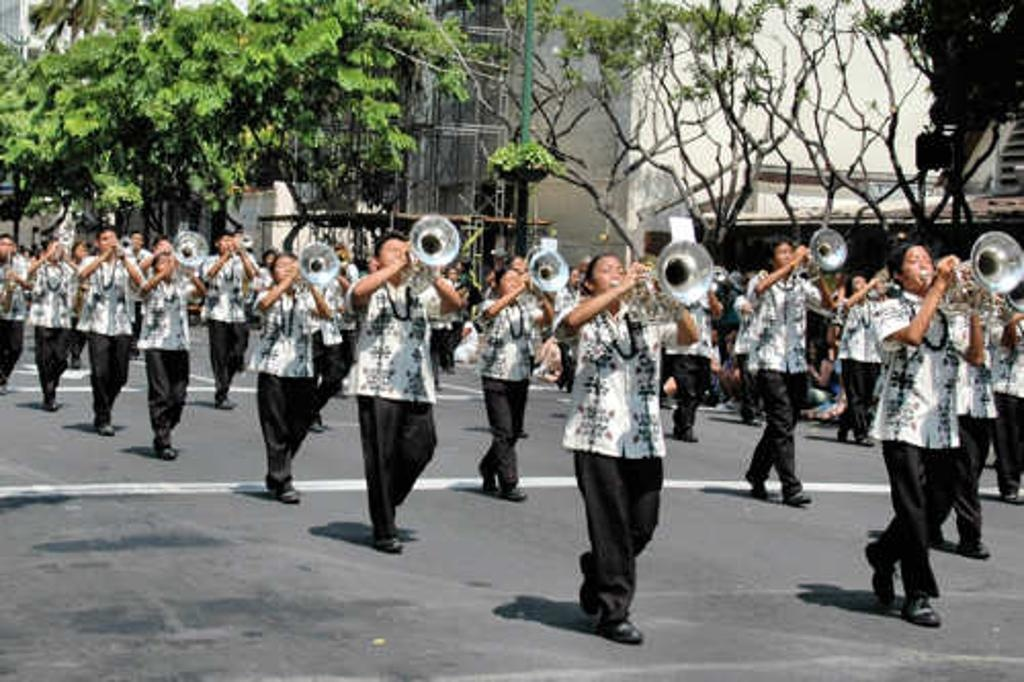human_face: (901, 246, 933, 288), (595, 256, 625, 297), (379, 240, 407, 274), (274, 256, 298, 284), (774, 243, 794, 271), (500, 270, 518, 296), (98, 232, 114, 250), (156, 256, 172, 274), (852, 277, 864, 295), (0, 238, 12, 256), (46, 242, 58, 258), (510, 258, 522, 272), (369, 259, 381, 273), (156, 239, 166, 255), (218, 235, 228, 251), (74, 244, 84, 258), (131, 234, 141, 246), (264, 252, 272, 266), (447, 268, 457, 278), (570, 268, 576, 284)
